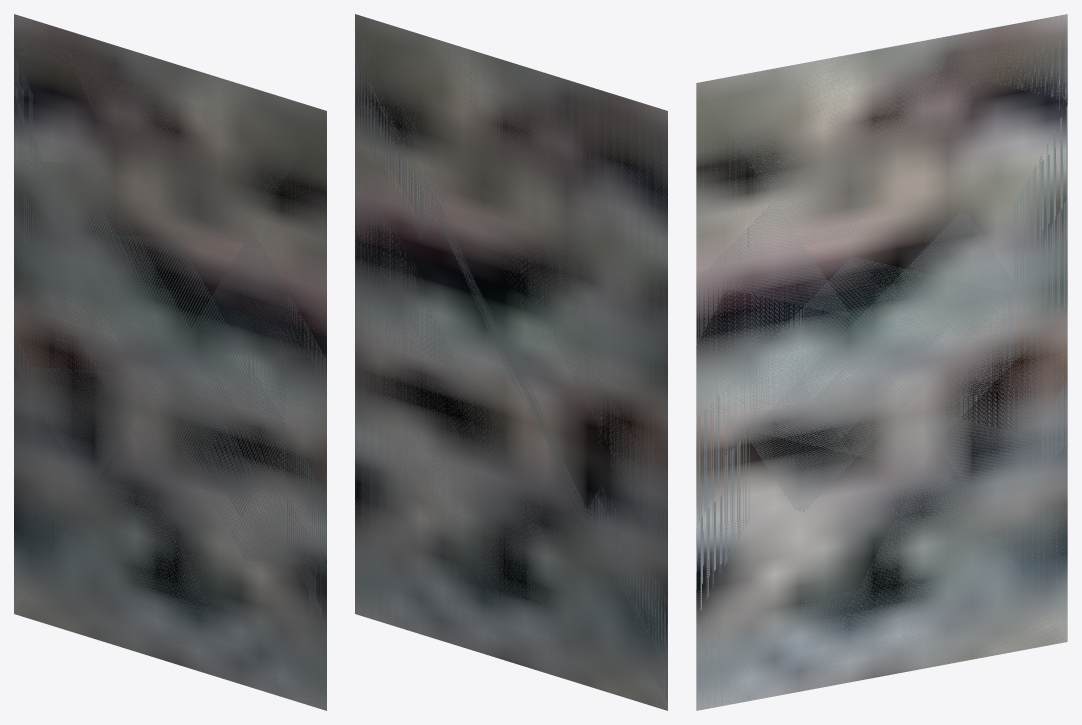
The model's file is 西庸城堡433.dae.
3 renders of one model, left to right at view 1: azimuth 30°, elevation 25°; view 2: azimuth 210°, elevation 25°; view 3: azimuth 270°, elevation 25°, orthographic. The views are drawn at different scales.
Visible parts, largest first — view 1: SketchUp; view 2: SketchUp; view 3: SketchUp.
Boxes of the visible parts, box(x1,y1,x2,y2) form: SketchUp: box(14, 14, 326, 710); SketchUp: box(355, 14, 667, 710); SketchUp: box(696, 14, 1067, 710).
Size of the model in its own units: 11.89 by 27.03 by 50.39.
